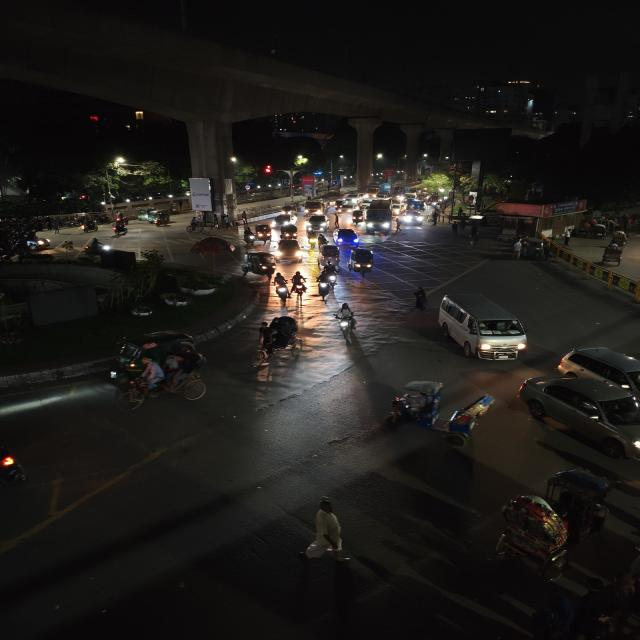bus: (364, 201, 394, 233)
car: (514, 374, 640, 484), (434, 290, 535, 364), (553, 342, 640, 398), (274, 237, 305, 263), (331, 228, 360, 246), (305, 214, 329, 232), (398, 210, 424, 226), (269, 214, 295, 229)
cng: (121, 330, 198, 359), (241, 250, 280, 280), (347, 248, 378, 280), (318, 242, 342, 266), (256, 223, 274, 242), (278, 224, 299, 239), (350, 209, 365, 225)
motorcycle: (316, 264, 340, 300), (272, 272, 292, 306), (289, 270, 308, 302), (183, 217, 210, 235), (80, 220, 104, 237), (109, 223, 132, 236), (239, 230, 257, 246), (152, 216, 171, 228), (236, 212, 252, 226)
pedestrian: (307, 494, 353, 568), (333, 302, 359, 337), (408, 284, 430, 312), (525, 238, 546, 260), (517, 237, 537, 260), (509, 237, 526, 259), (467, 227, 482, 248), (331, 212, 343, 230), (451, 220, 461, 236)
pickup_van: (301, 199, 326, 215)
rickshaw: (488, 469, 617, 579), (386, 382, 492, 448), (118, 358, 209, 410), (253, 312, 304, 368), (601, 242, 625, 268), (318, 243, 340, 266)
